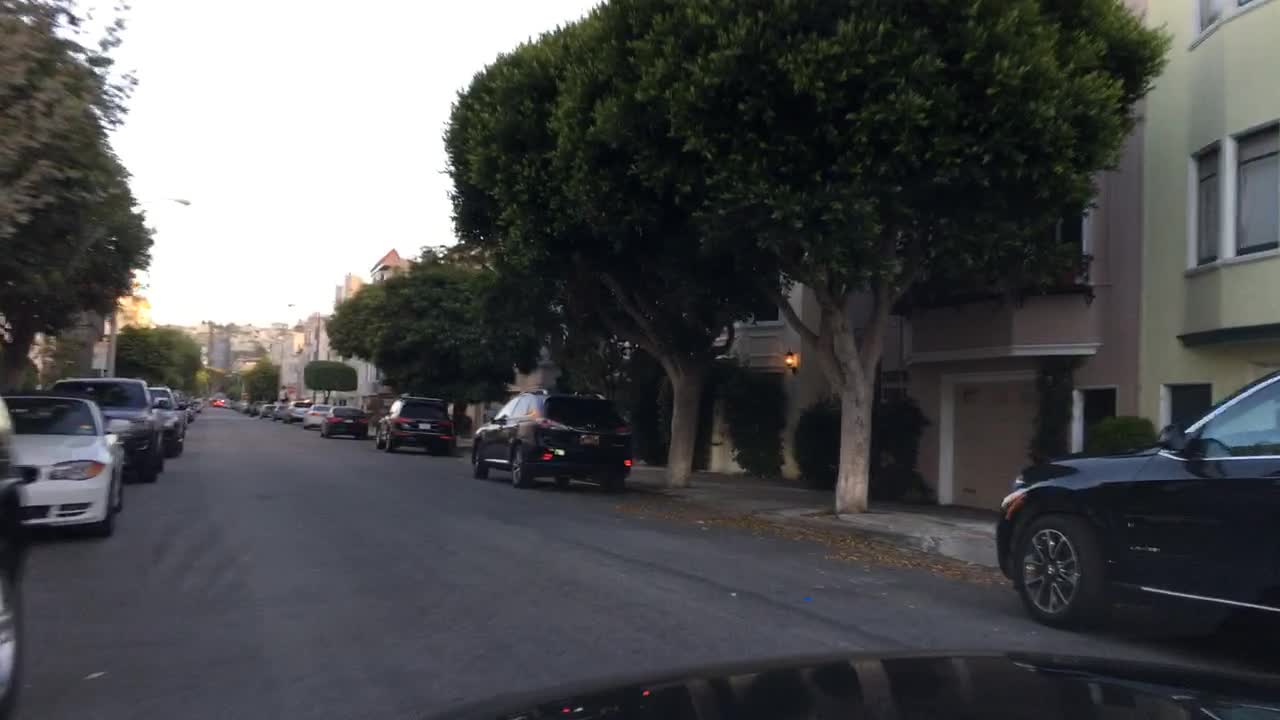car: (992, 367, 1278, 628), (1, 392, 125, 540), (468, 384, 636, 489), (46, 375, 166, 489), (0, 389, 28, 715), (371, 393, 457, 451), (150, 385, 188, 454), (319, 404, 369, 439), (301, 404, 335, 432), (280, 398, 313, 426), (244, 398, 267, 416), (181, 398, 198, 422), (260, 400, 279, 419), (228, 395, 244, 410), (210, 393, 228, 406), (194, 397, 206, 412)
person: (277, 382, 289, 407)
